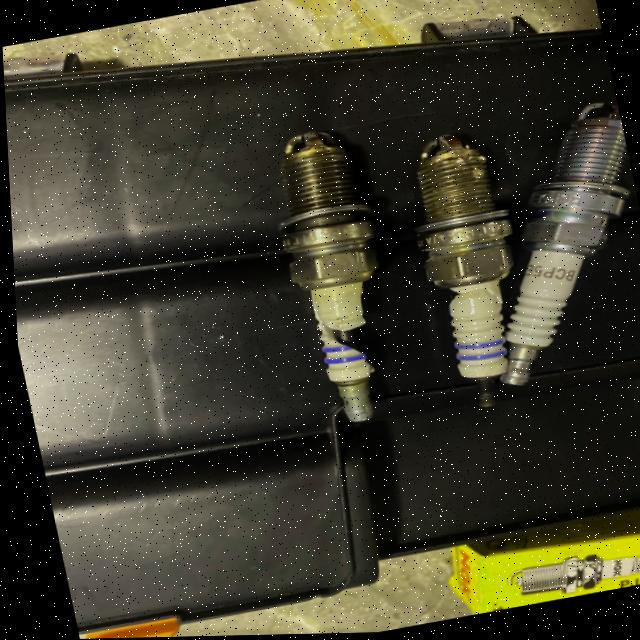damaged_spark-plug: (231, 114, 411, 451), (376, 122, 533, 430)
spark-plug: (484, 103, 629, 396)
